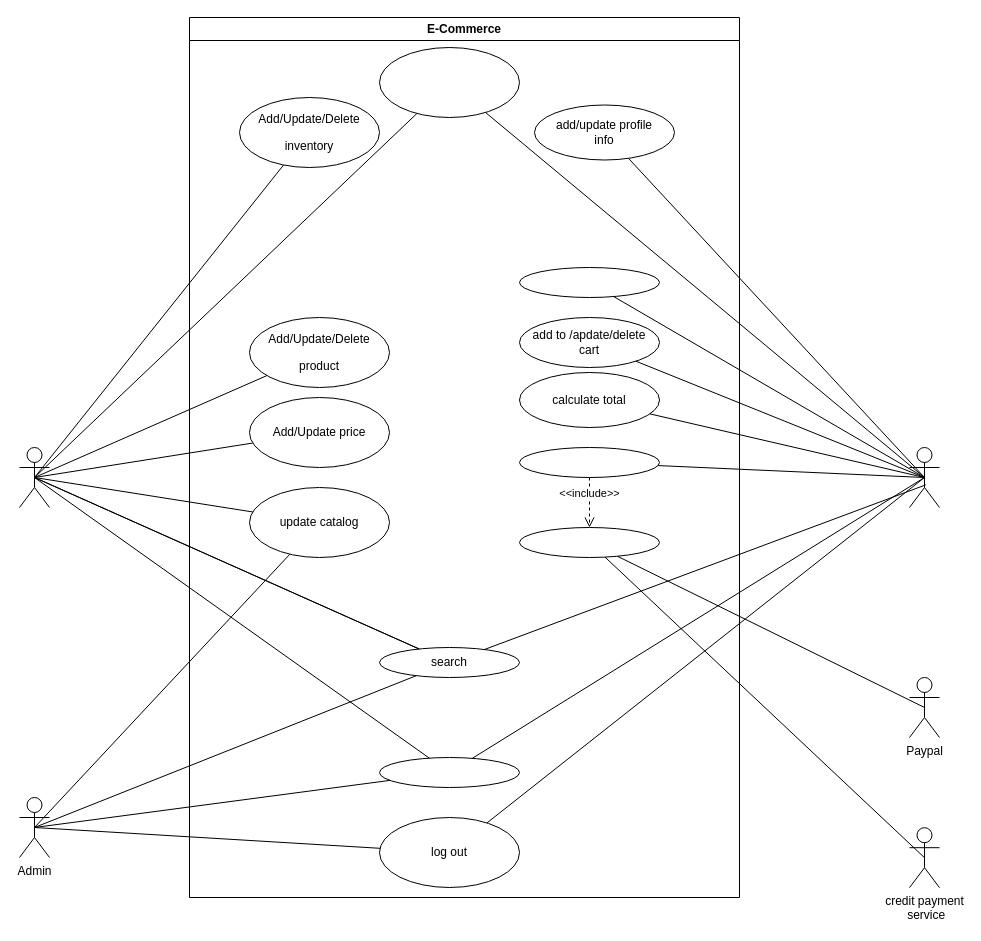
This 981x941 diagram has some shape labels left out. The shapes that lost their labels are listed below. From the top down, each one's centre as x and y in pixels, then its label:
At (x=449, y=82): "log in".
At (x=589, y=282): "review".
At (x=34, y=477): "seller".
At (x=589, y=462): "order placement".
At (x=924, y=477): "customer".
At (x=589, y=542): "payment".
At (x=449, y=772): "Browse".
